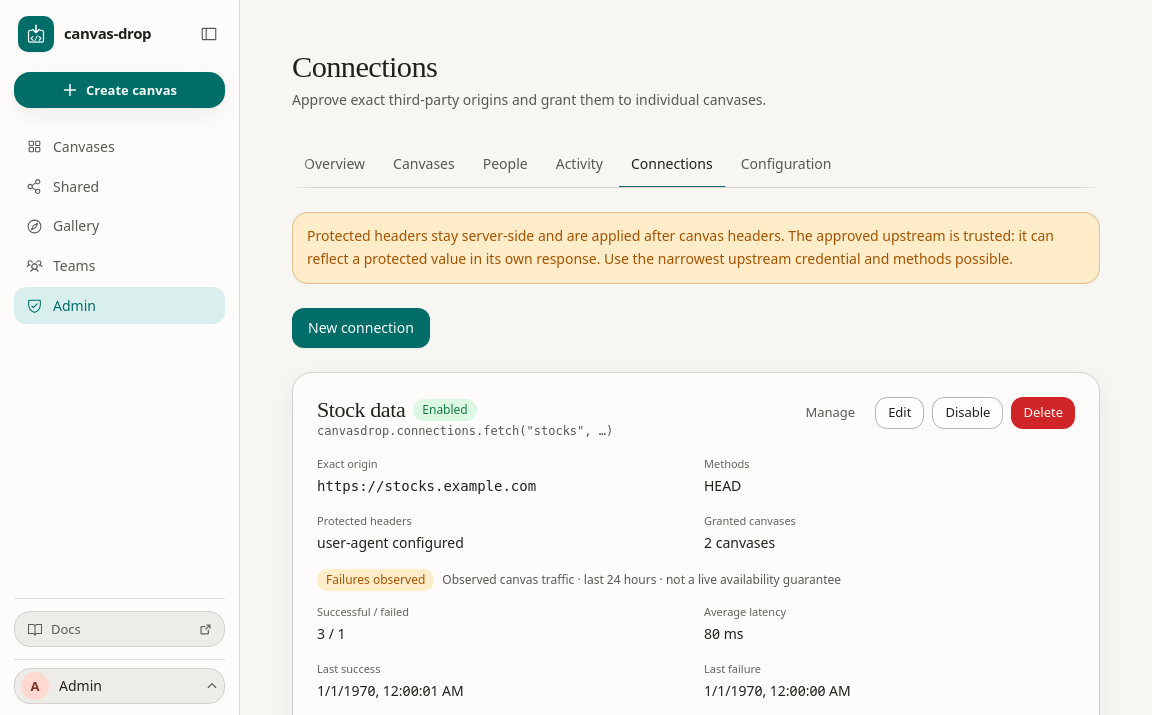
Test: admin connections › shows observed failures, named canvases and a bounded diagnostic outcome
Expected: the text "Failures observed" is shown, [317,569,434,591]
Expected: the text "80 ms" is shown, [704,624,744,643]
Click the button "Manage": (830, 412) [793,396,867,428]
(page scrolled)
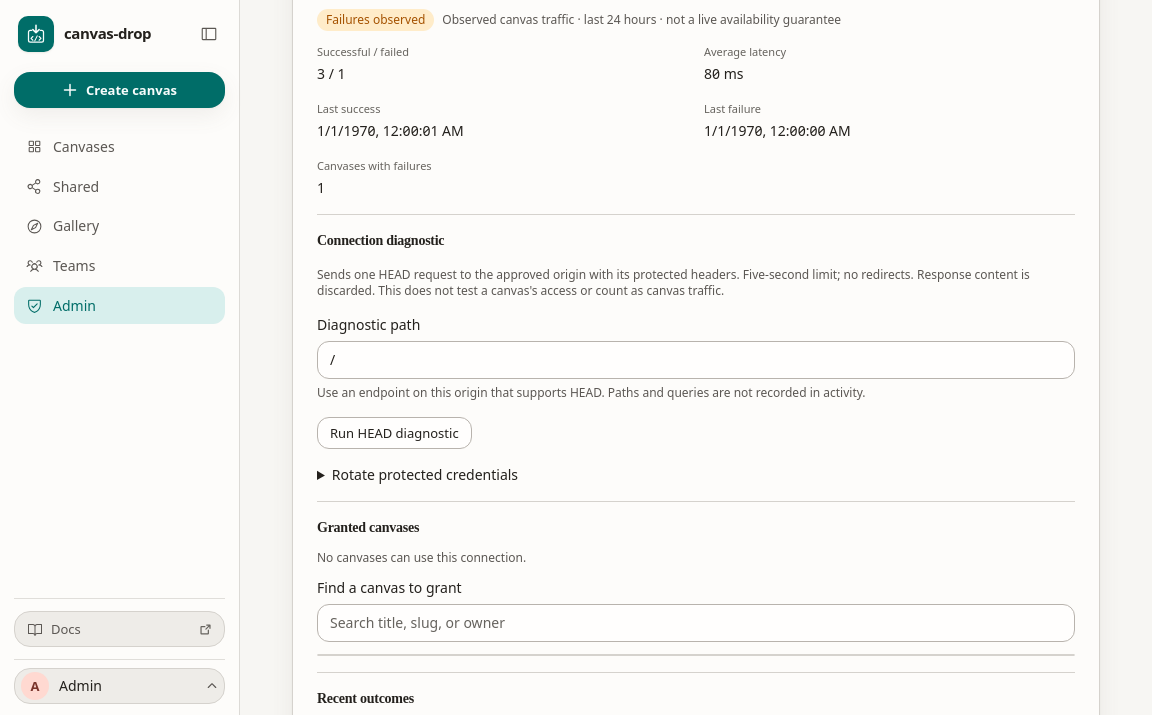
In the field labelled "Diagnostic path": (696, 360) [317,341,1075,379], type "health"
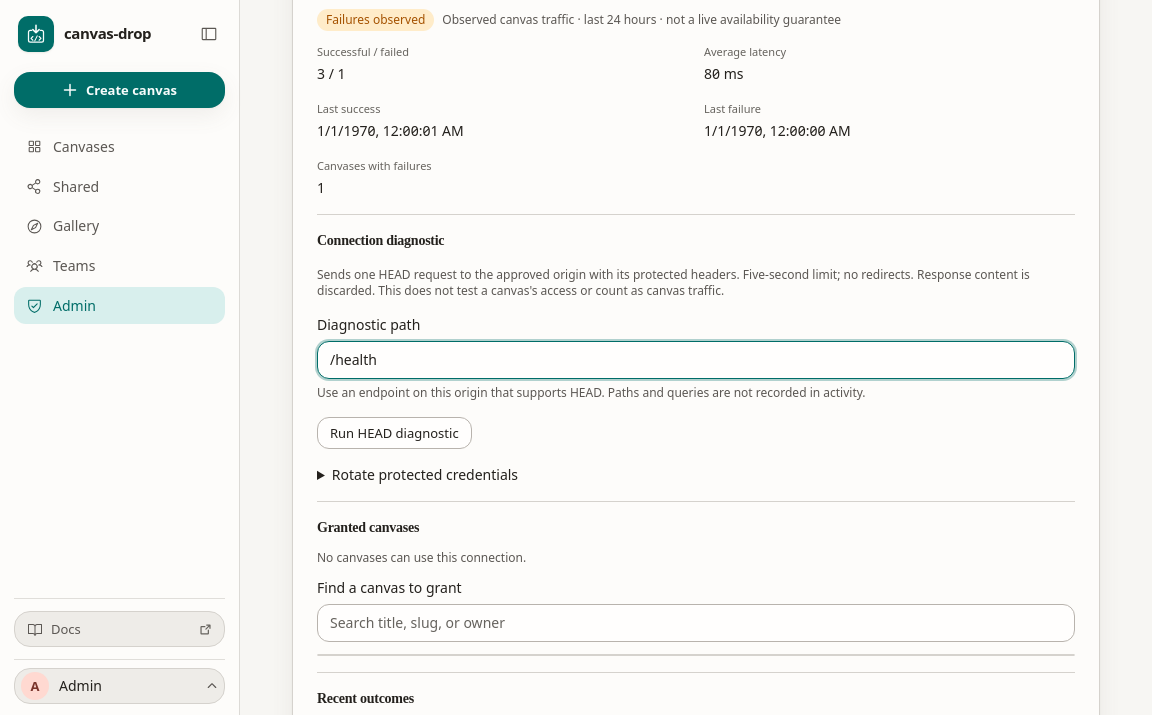
Click the button "Run HEAD diagnostic": (394, 433) [317,417,472,449]
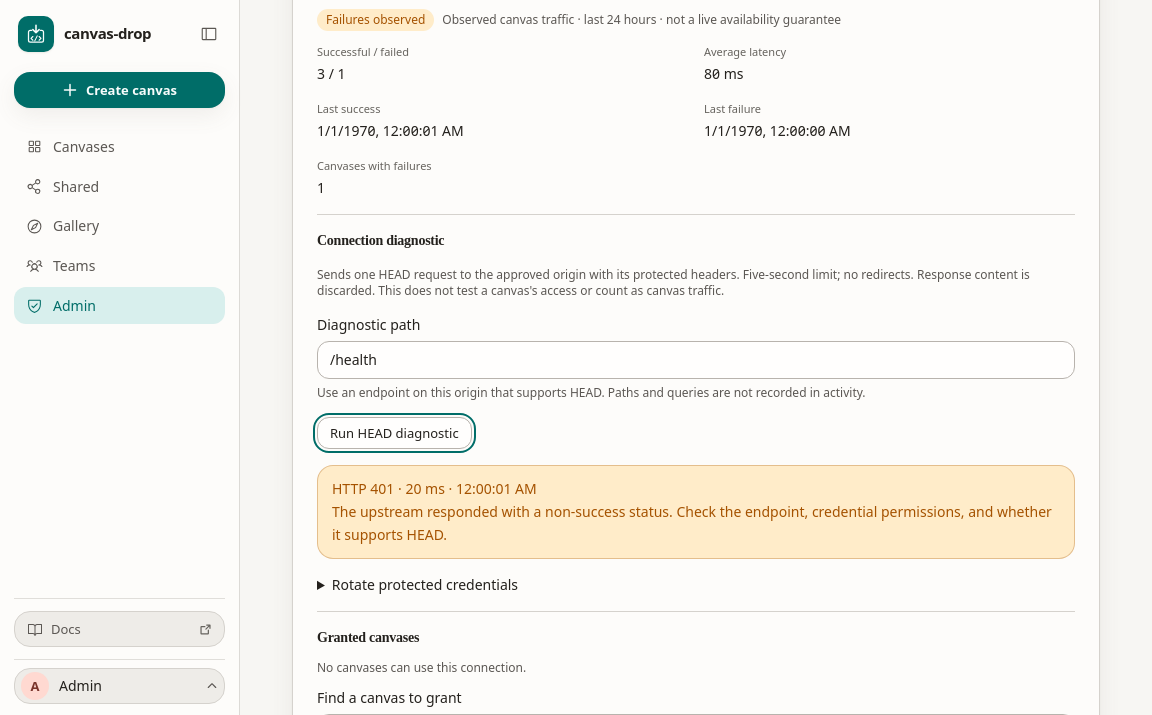
Now the heading "Rotate protected credentials" is shown, box [332,575,518,594]
Now the text "HTTP 401 · 20 ms · 12:00:01 AM" is shown, box [332,479,537,498]
